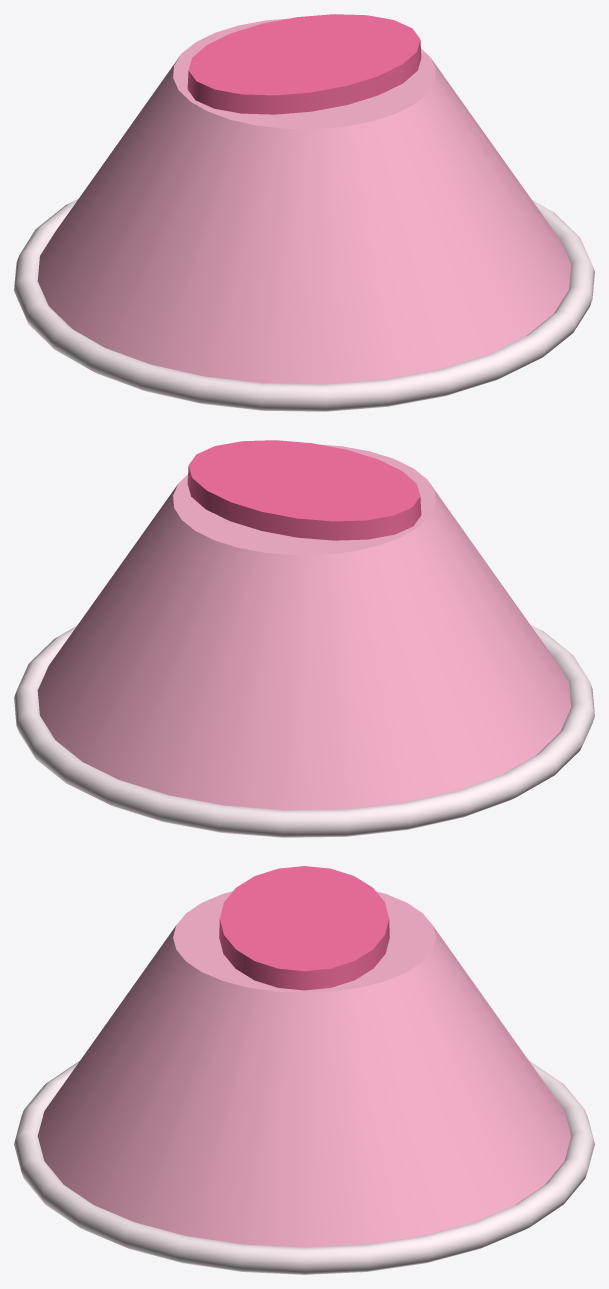
The model's file is bottom_cute_1.glb.
3 renders of one model, top to bottom at view 1: azimuth 30°, elevation 25°; view 2: azimuth 150°, elevation 25°; view 3: azimuth 270°, elevation 25°, orthographic.
Size of the model in its own units: 0.84 by 0.379 by 0.84.
